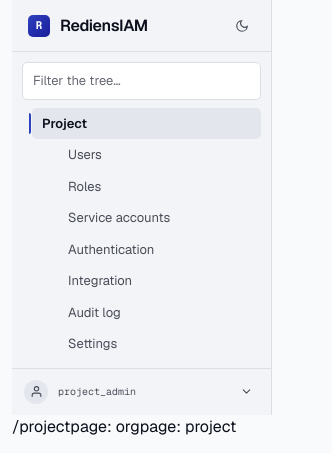
Test: the account menu › goes to the account page and closes behind itself
Click the button titled "Account & sign out": coordinates (246, 392) [233, 378, 259, 404]
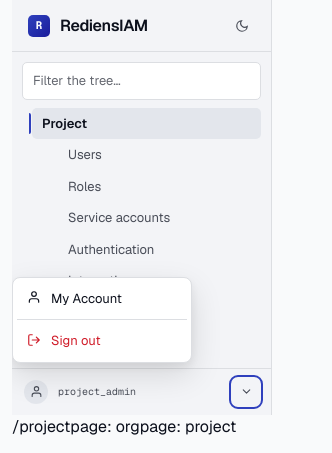
Click the button "My Account": coordinates (102, 298) [17, 282, 187, 315]
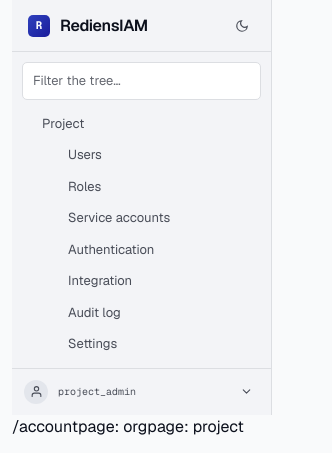
Expected: the text with test id "here" reads "/account", [12, 416, 78, 436]
Expected: the button "My Account" is gone
